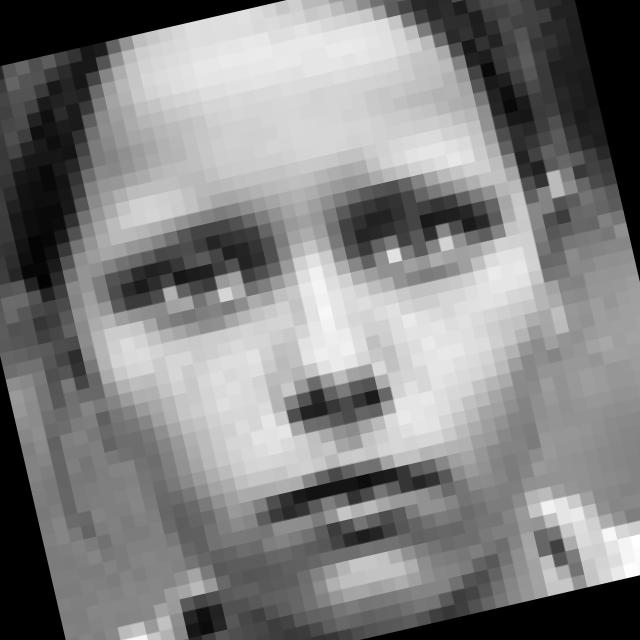neutral: (90, 134, 580, 600)
